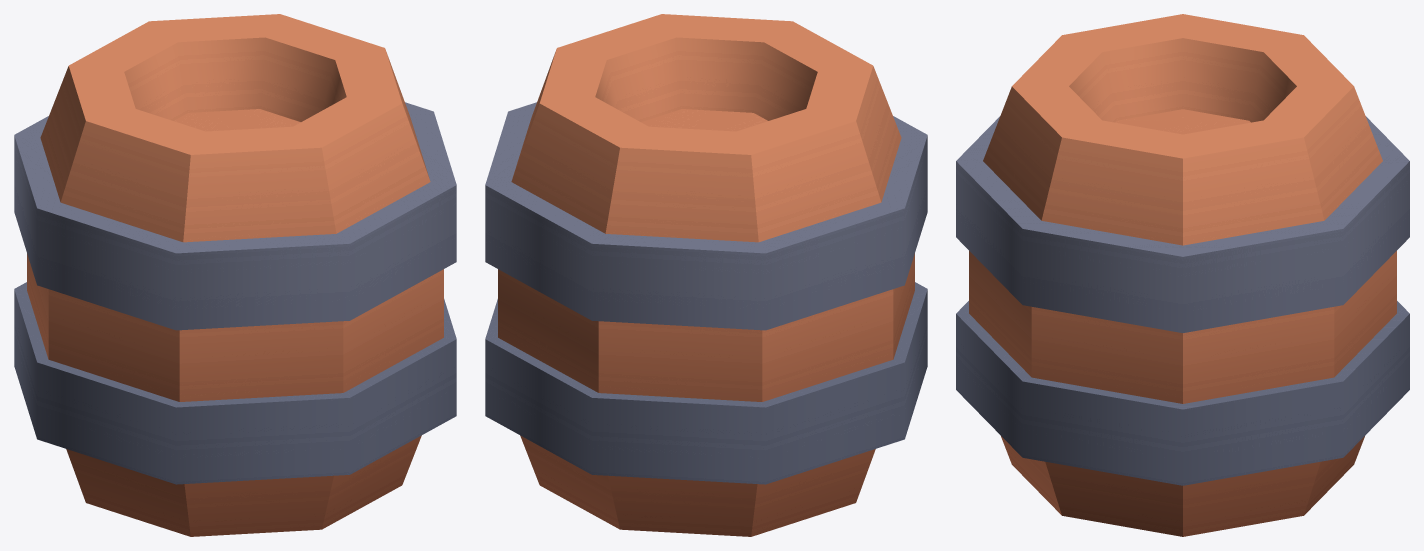
Rendered from barrel.glb.
The picture shows the model from 3 angles, left to right: view 1: azimuth 30°, elevation 25°; view 2: azimuth 150°, elevation 25°; view 3: azimuth 270°, elevation 25°; orthographic projection.
Parts seen in each view (by area): view 1: barrel; view 2: barrel; view 3: barrel.
Boxes of the visible parts, bbox=[...] form: barrel: bbox=[14, 14, 456, 536]; barrel: bbox=[485, 14, 927, 536]; barrel: bbox=[956, 14, 1409, 536].
Size of the model in its own units: 0.5176 by 0.4762 by 0.5176.
Materials: 1 (1 with a texture image).
